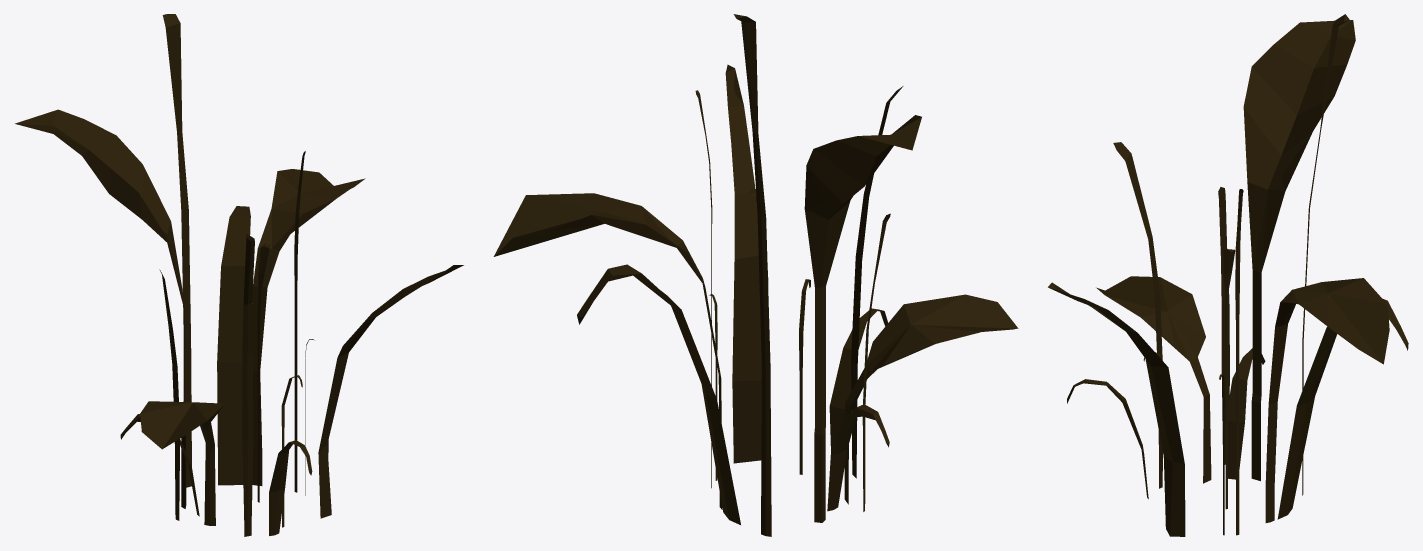
The model's file is Weed02.fbx.
3 views of the same model, side by side, from view 1: azimuth 30°, elevation 25°; view 2: azimuth 150°, elevation 25°; view 3: azimuth 270°, elevation 25° (orthographic). The views are drawn at different scales.
Visible parts, largest first — view 1: Plane; view 2: Plane; view 3: Plane.
Boxes of the visible parts, x1,y1,x2,y2 form: Plane: (15, 14, 463, 536); Plane: (493, 14, 1018, 536); Plane: (1048, 14, 1408, 536).
Bounding box in the file's own units: 0.9348 × 1.2 × 0.8191.
